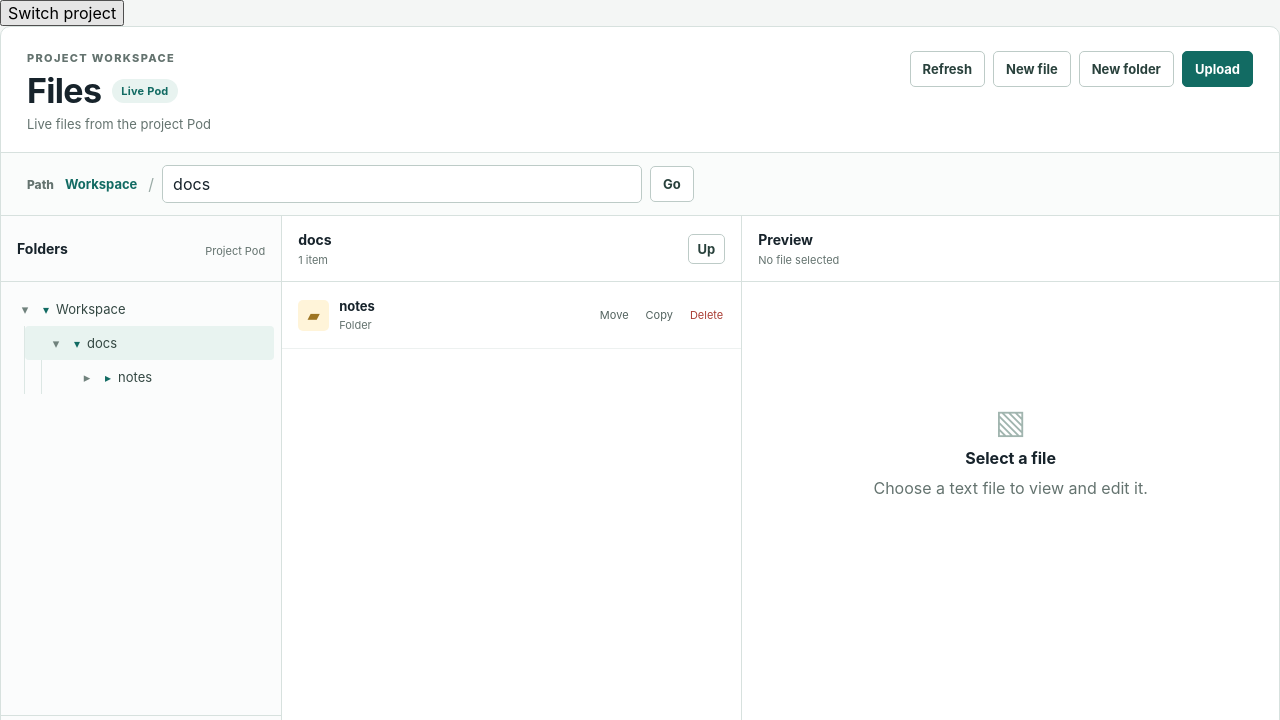
Test case: Project Pod files URL and recovery behavior › creates a nested folder only after a successful mkdir response and matching listing readback
This screenshot has width=1280, height=720.
Later steps or results of the test are not shown.
Click the button with aria-label "Create a folder". click: click(1126, 69)
box: [1079,51,1174,87]
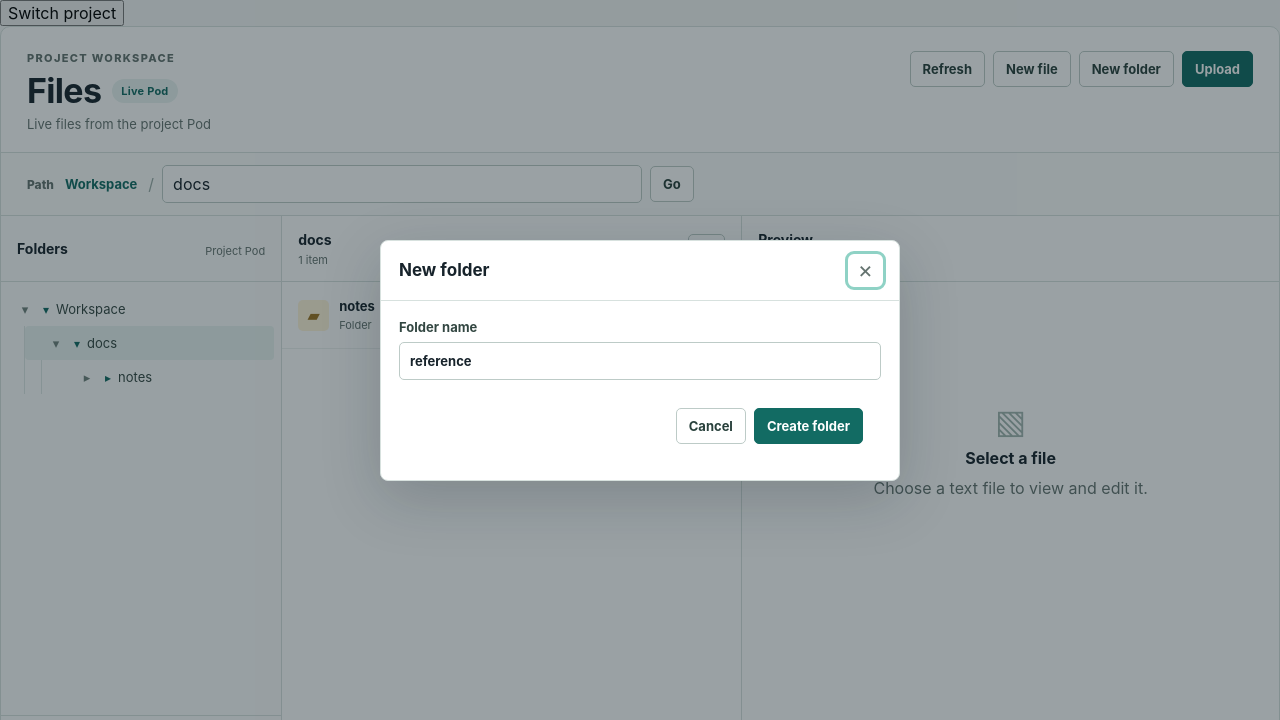
Result: the field with id "files-create-folder-name" is shown at [399,342,881,380]
